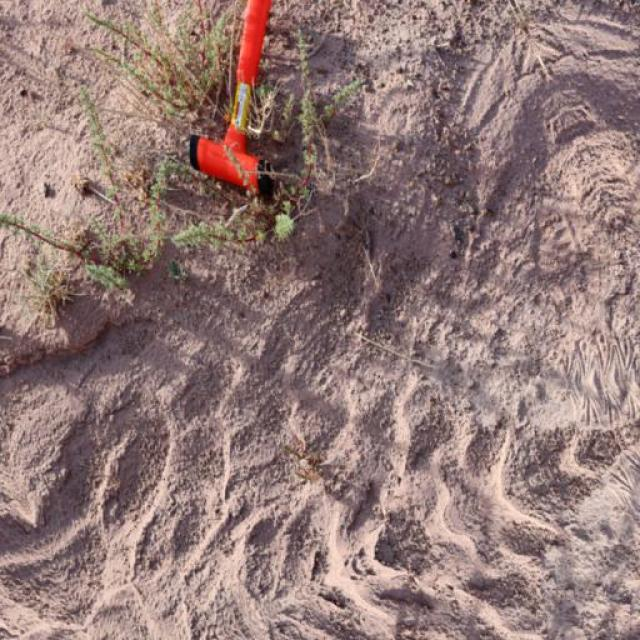mallet: (186, 0, 279, 198)
